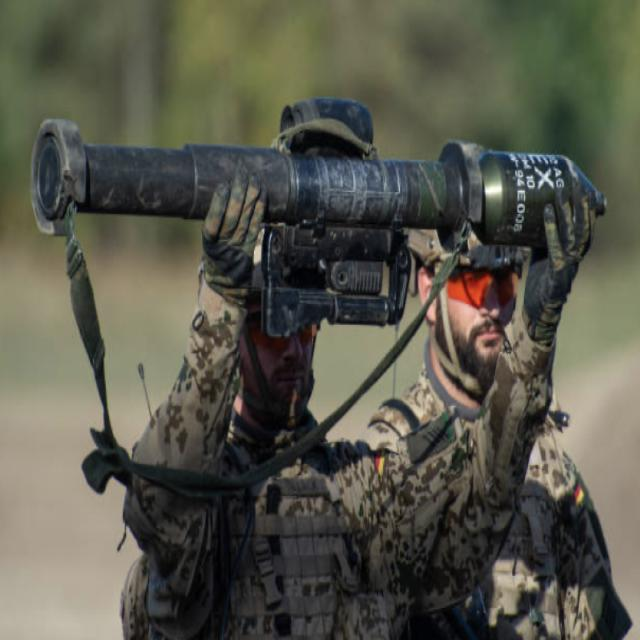bazooka: (20, 107, 623, 256)
